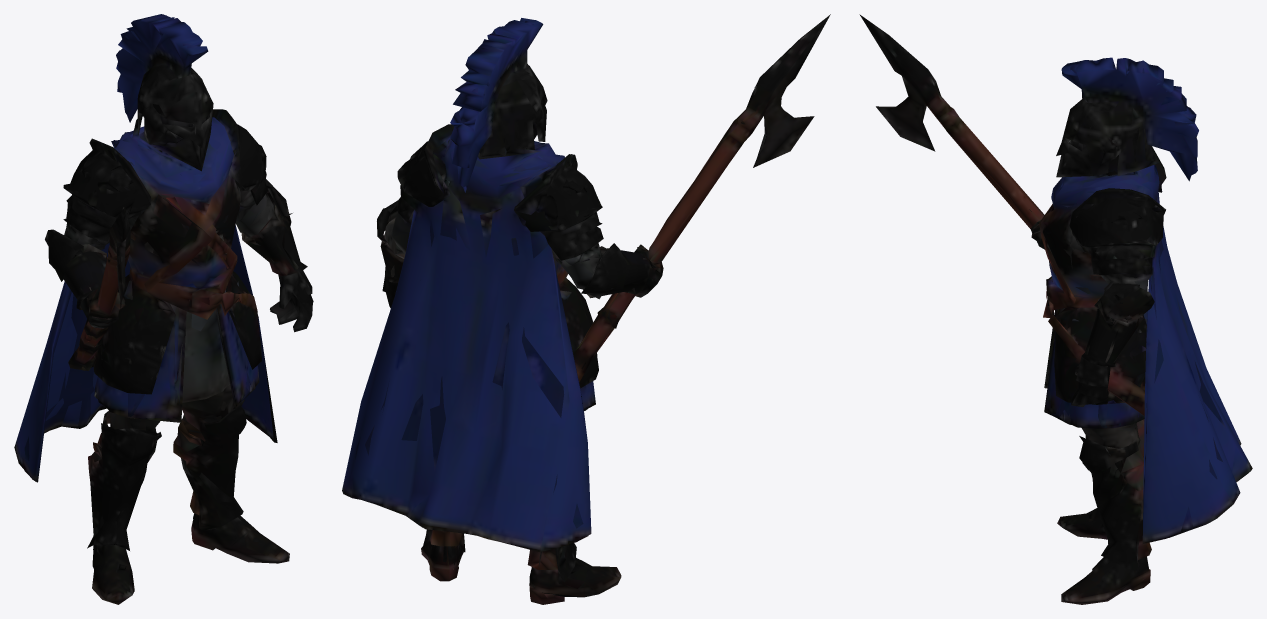
File: detail_10_lo.glb
3 views of the same model, side by side, from view 1: azimuth 30°, elevation 25°; view 2: azimuth 150°, elevation 25°; view 3: azimuth 270°, elevation 25° (orthographic). The views are drawn at different scales.
Visible parts, largest first — view 1: Mesh_0.001; view 2: Mesh_0.001; view 3: Mesh_0.001.
Boxes of the visible parts, x1=… form: Mesh_0.001: x1=14, y1=14, x2=313, y2=604; Mesh_0.001: x1=342, y1=14, x2=830, y2=604; Mesh_0.001: x1=859, y1=14, x2=1252, y2=604.
Size of the model in its own units: 0.6054 by 0.9959 by 0.711.
Materials: 1 (1 with a texture image).
